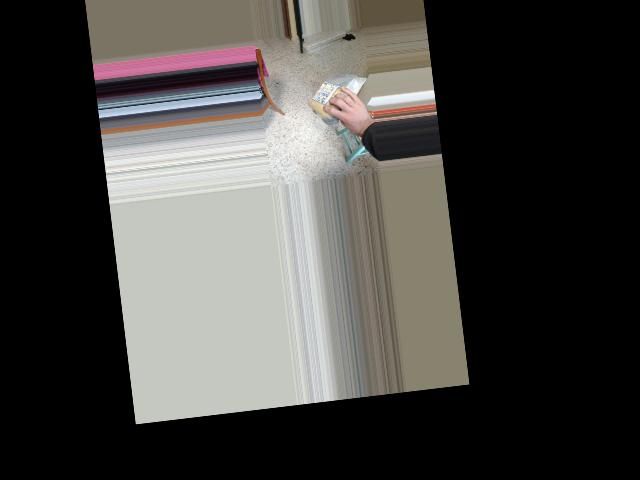cheese: (306, 73, 369, 123)
